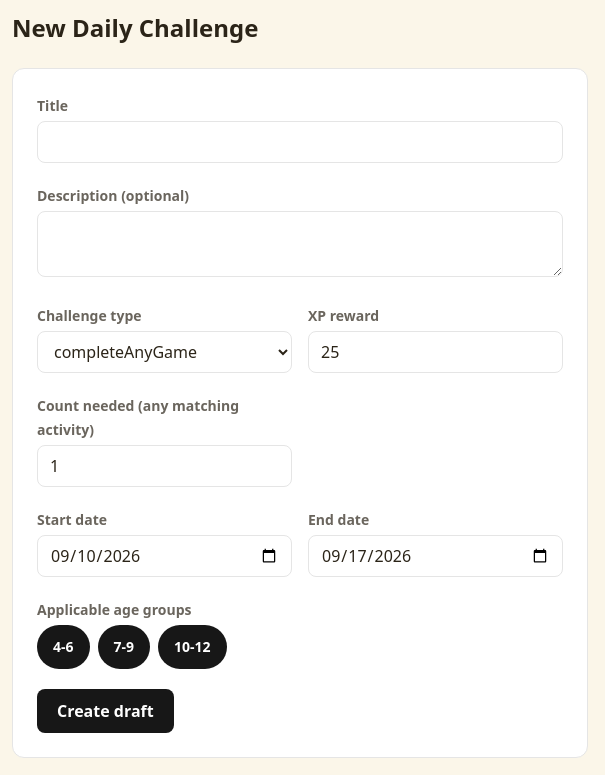
Test: Admin: Daily Challenge editor › shows a gameId field only for challengeType requiring a specific game
This screenshot has width=605, height=775.
Expected: the heading "New Daily Challenge" is shown, [12,12,258,44]
Expected: the field labelled "game id" is not shown
Select "completeSpecificGame" in the dropdown labelled "Challenge type": (164, 352) [37,331,292,373]
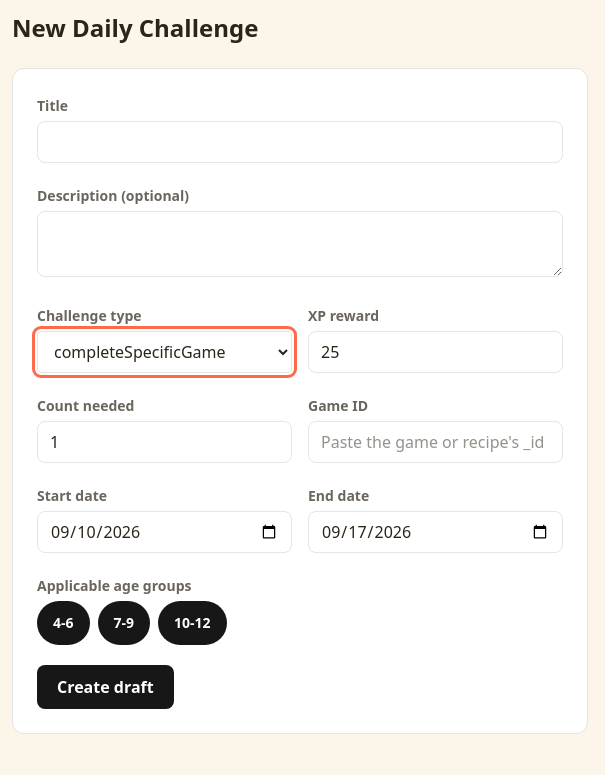
Result: the field labelled "Game ID" is shown at [308,421,563,463]
